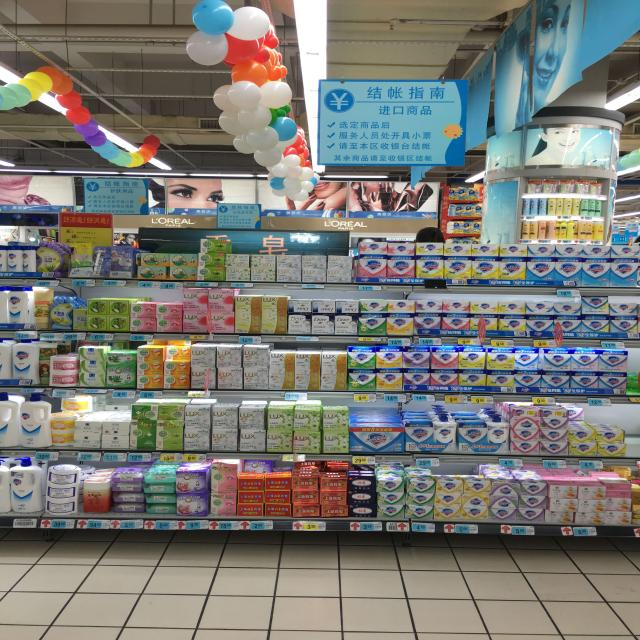unorganised: (545, 482, 578, 527), (289, 297, 359, 314), (134, 251, 170, 278), (157, 400, 186, 422), (130, 401, 159, 422), (60, 395, 91, 412), (40, 340, 51, 387), (164, 343, 191, 361), (566, 407, 585, 423)
